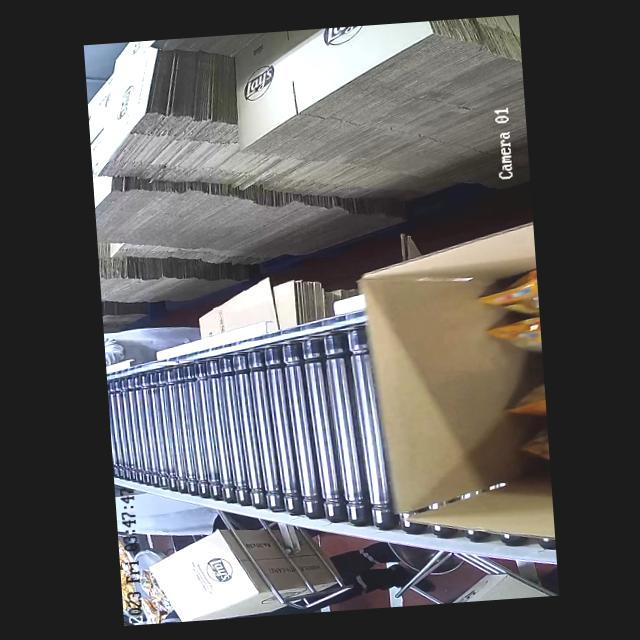cheese: (493, 262, 550, 487)
